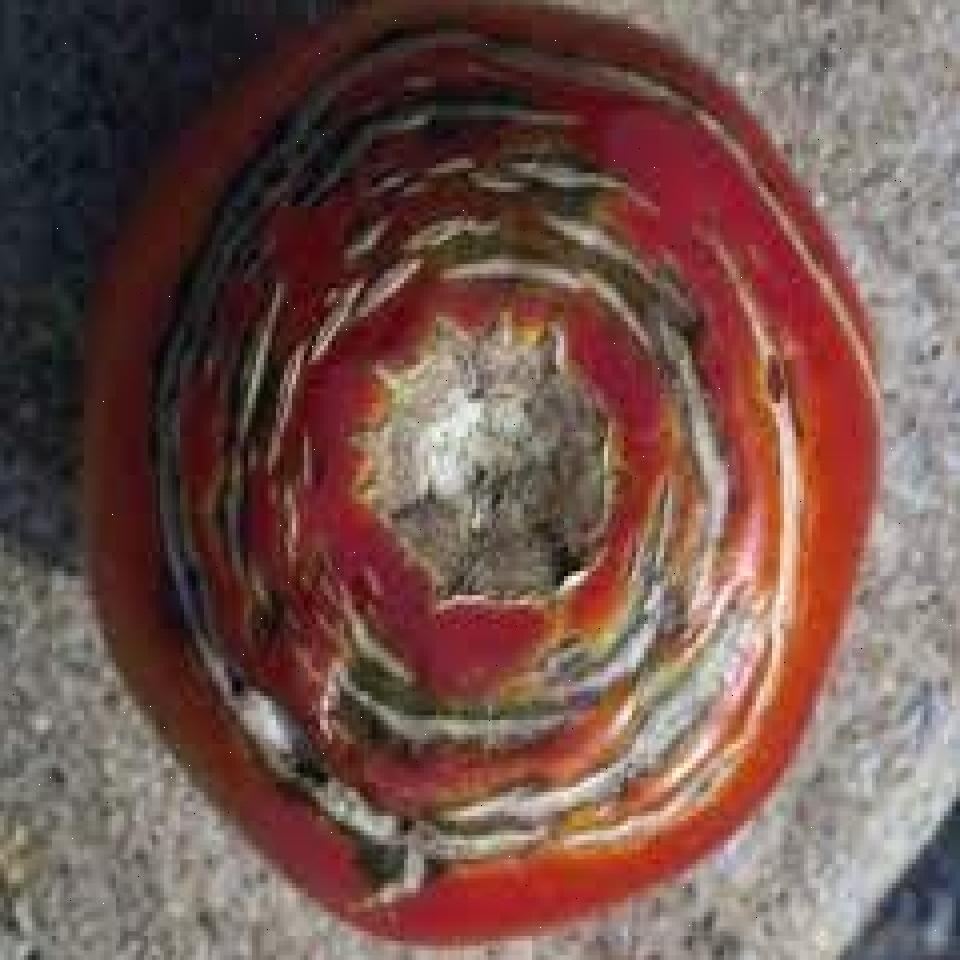Cracking: (135, 32, 870, 924)
